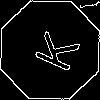K: (25, 25, 81, 74)
